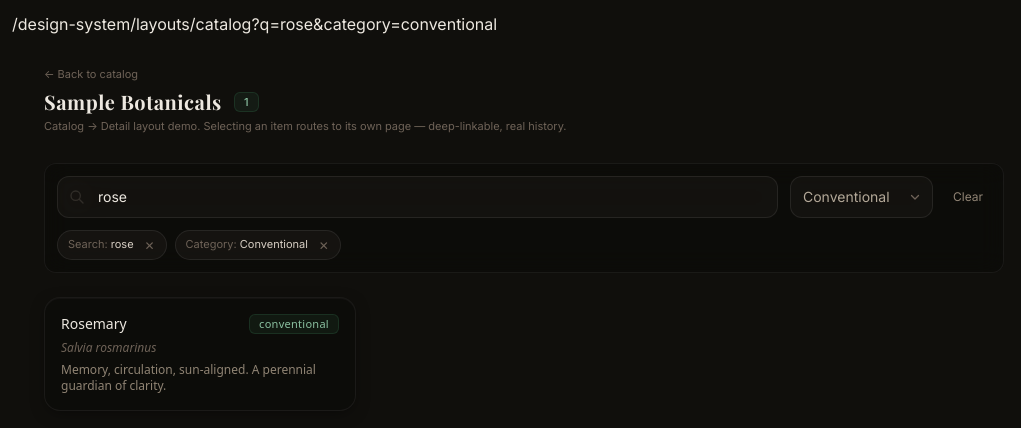
CatalogDemo — composes the canonical Catalog layout with FilterBar › dismissing a chip removes that single filter from the URL
Click the button named "remove category filter": click(324, 244) [312,232,336,256]
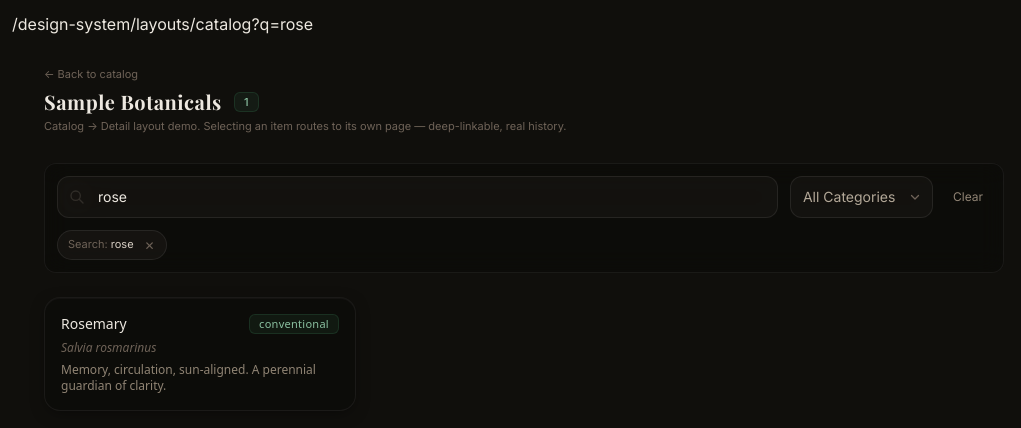
Expected: the text with test id "location-probe" shows "q=rose", [12,14,313,34]
Result: the text with test id "location-probe" no longer shows "category="
